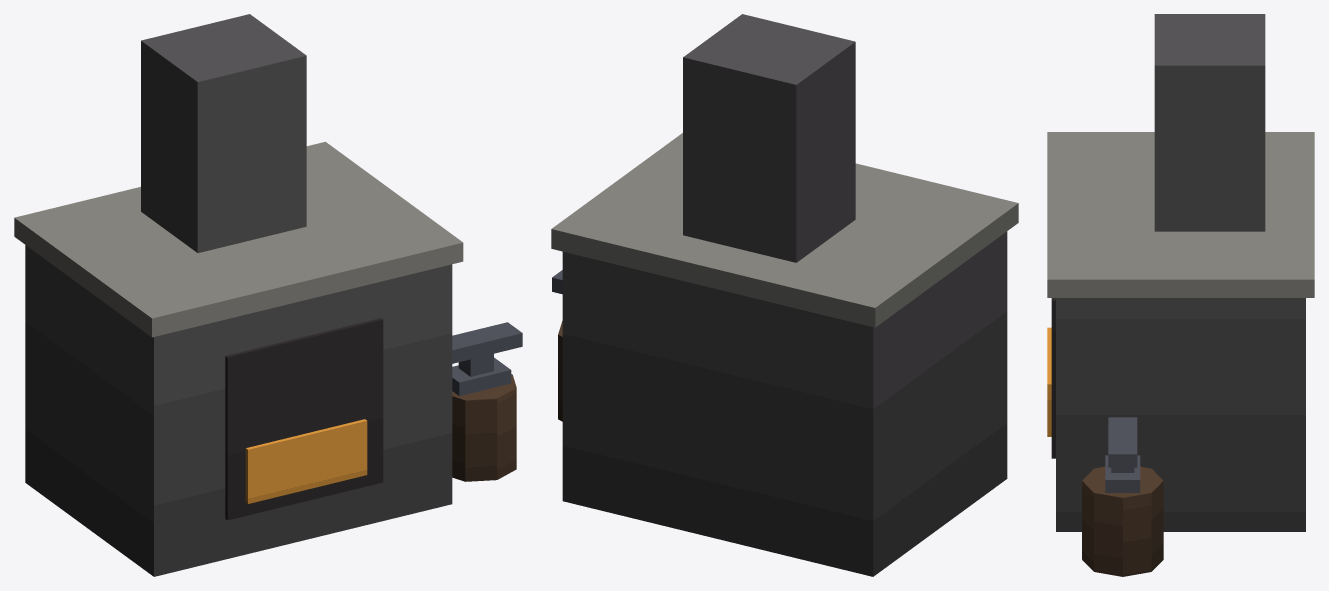
The model's file is forge.glb.
The picture shows the model from 3 angles, left to right: view 1: azimuth 30°, elevation 25°; view 2: azimuth 150°, elevation 25°; view 3: azimuth 270°, elevation 25°; orthographic projection. The views are drawn at different scales.
Bounding box in the file's own units: 1.55 × 1.6 × 0.92.
Materials: 1 (1 with a texture image).
